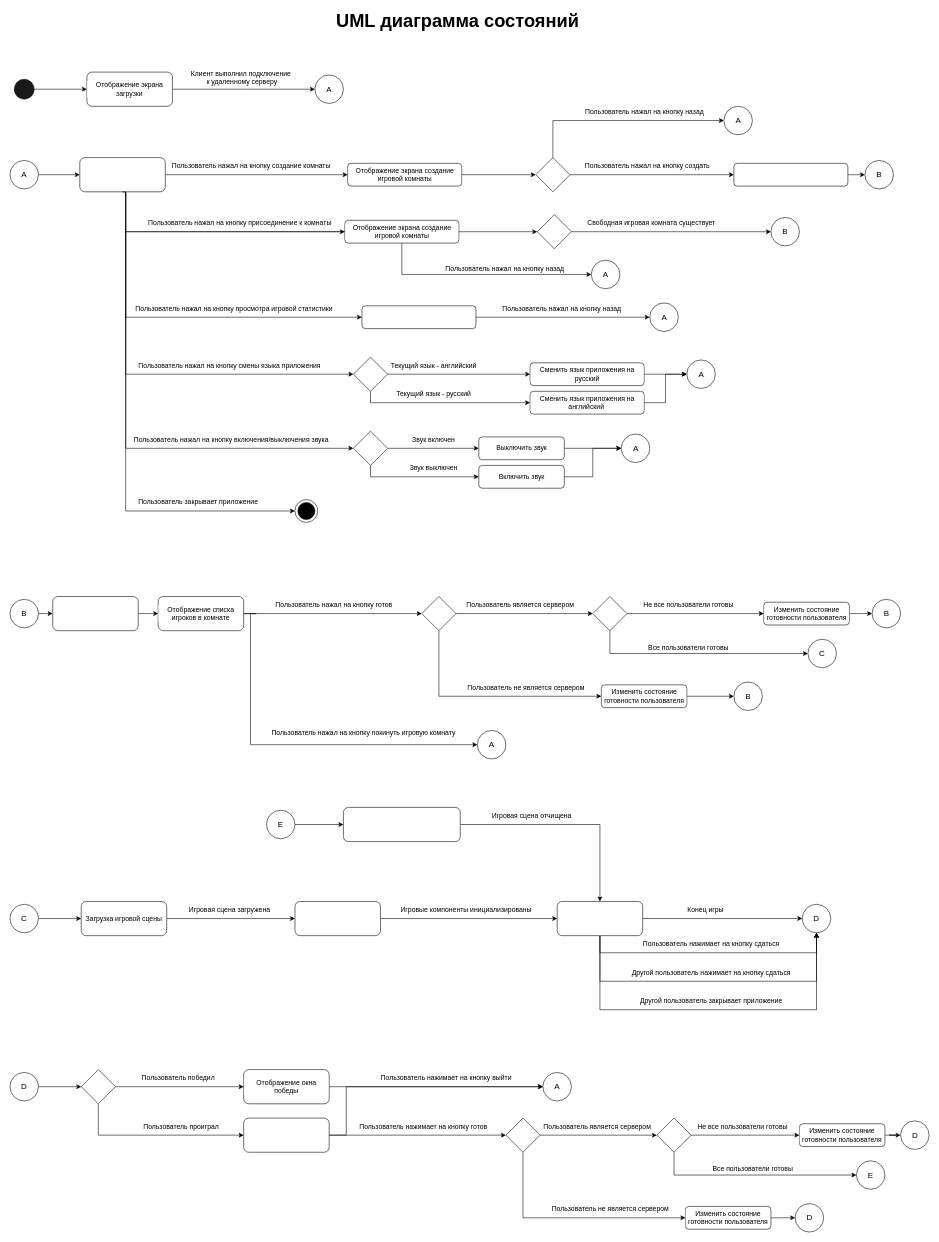
Some shapes in this 939 by 1242 pixel diagram are drawn without their labels. The centre of each missing label's shape, as x and y in pixels:
"Инициализация игровых компонентов" goes at [337,918].
"Обновление списка игроков в комнате" goes at [95,613].
"Отображение игровой статистики" goes at [418,317].
"Отображение окна поражения" goes at [286,1134].
"Отображение экрана главного меню" goes at [122,174].
"Отчистка игровой сцены от предыдущей игры" goes at [401,824].
"Процесс игры" goes at [600,918].
"Создание игровой комнаты" goes at [790,174].
